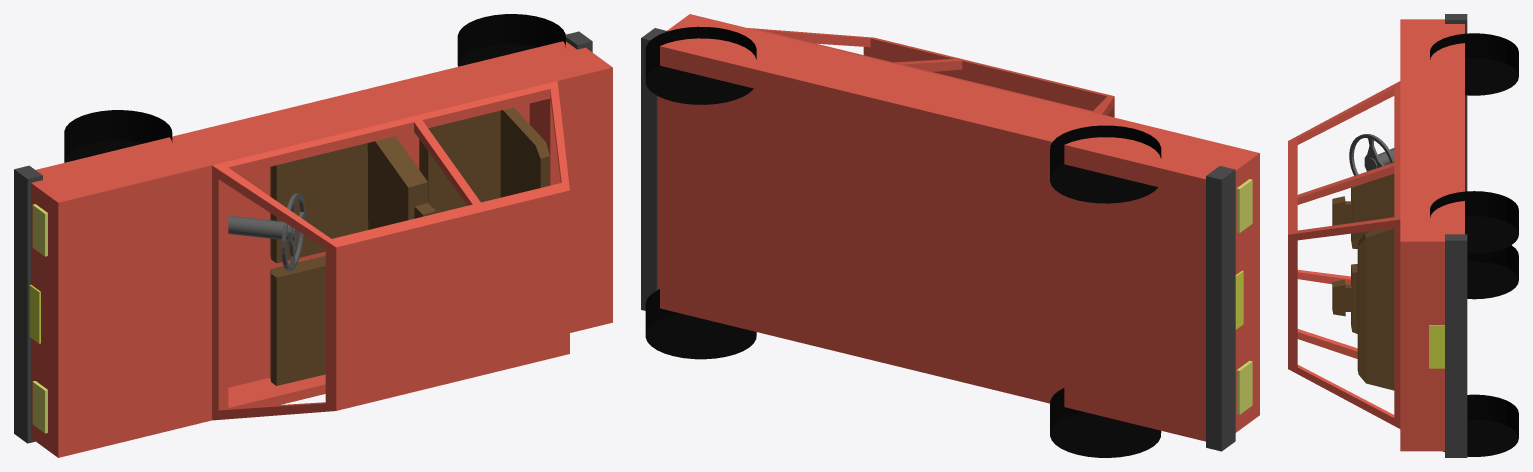
Rendered from sedan.fbx.
3 views of the same model, side by side, from view 1: azimuth 30°, elevation 25°; view 2: azimuth 150°, elevation 25°; view 3: azimuth 270°, elevation 25° (orthographic). The views are drawn at different scales.
Parts seen in each view (by area): view 1: Sedan, seats_Front, seats_Back, wheels, Bummper, Circle.003, Front_lights, plate; view 2: Sedan, wheels, Bummper, Front_lights; view 3: Sedan, wheels, seats_Back, Bummper, seats_Front, Circle.003, plate.
Boxes of the visible parts, left/top/right/bottom form: Sedan: left=31, top=41, right=612, bottom=457; seats_Front: left=270, top=136, right=436, bottom=385; seats_Back: left=419, top=107, right=549, bottom=213; wheels: left=64, top=14, right=565, bottom=162; Bummper: left=14, top=31, right=592, bottom=443; Circle.003: left=228, top=193, right=305, bottom=270; Front_lights: left=32, top=204, right=47, bottom=433; plate: left=29, top=284, right=40, bottom=343; Sedan: left=658, top=14, right=1259, bottom=441; wheels: left=645, top=26, right=1161, bottom=457; Bummper: left=641, top=28, right=1235, bottom=451; Front_lights: left=1236, top=179, right=1252, bottom=414; Sedan: left=1288, top=19, right=1464, bottom=451; wheels: left=1430, top=33, right=1518, bottom=456; seats_Back: left=1357, top=228, right=1394, bottom=390; Bummper: left=1445, top=14, right=1467, bottom=457; seats_Front: left=1332, top=161, right=1394, bottom=333; Circle.003: left=1349, top=134, right=1394, bottom=175; plate: left=1429, top=325, right=1444, bottom=368.
Bounding box in the file's own units: 201 × 94.26 × 86.36.
